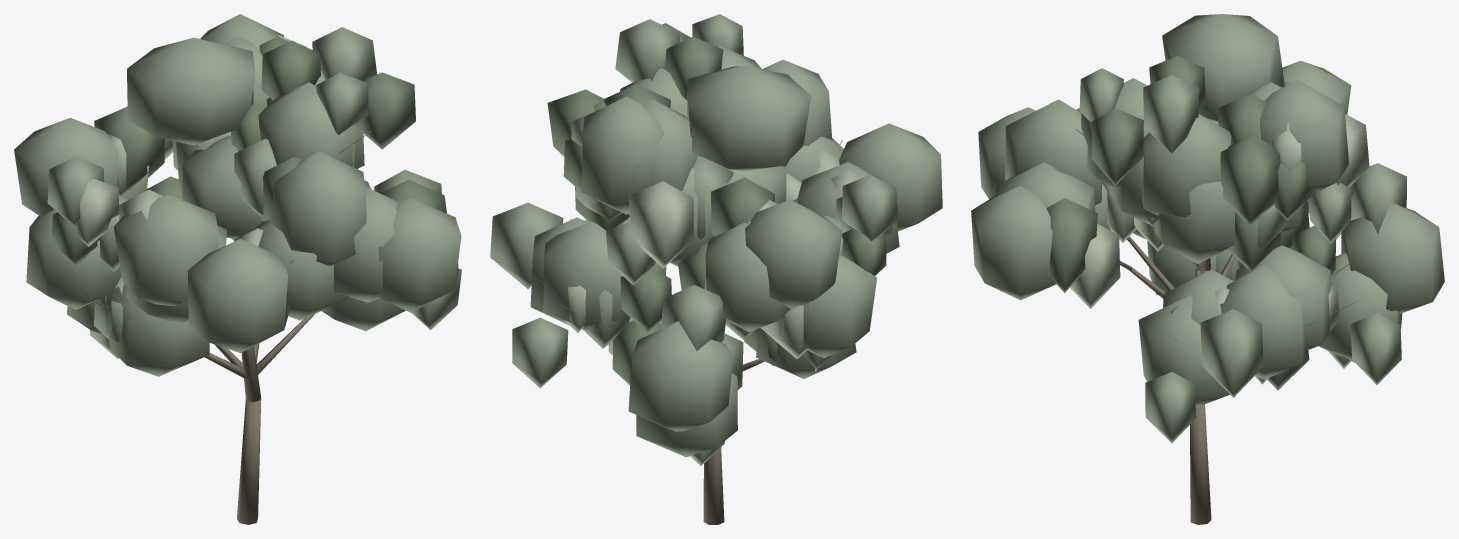
The model's file is SM_MPR3_Tree_2_LOD1.fbx.
3 views of the same model, side by side, from view 1: azimuth 30°, elevation 25°; view 2: azimuth 150°, elevation 25°; view 3: azimuth 270°, elevation 25° (orthographic). The views are drawn at different scales.
Parts seen in each view (by area): view 1: SM_MPR3_Tree_2_LOD1; view 2: SM_MPR3_Tree_2_LOD1; view 3: SM_MPR3_Tree_2_LOD1.
Part boxes in pixels (left/top/right/bottom): SM_MPR3_Tree_2_LOD1: left=14, top=14, right=461, bottom=524; SM_MPR3_Tree_2_LOD1: left=490, top=14, right=942, bottom=524; SM_MPR3_Tree_2_LOD1: left=971, top=14, right=1444, bottom=524.
Size of the model in its own units: 653 by 672 by 760.
